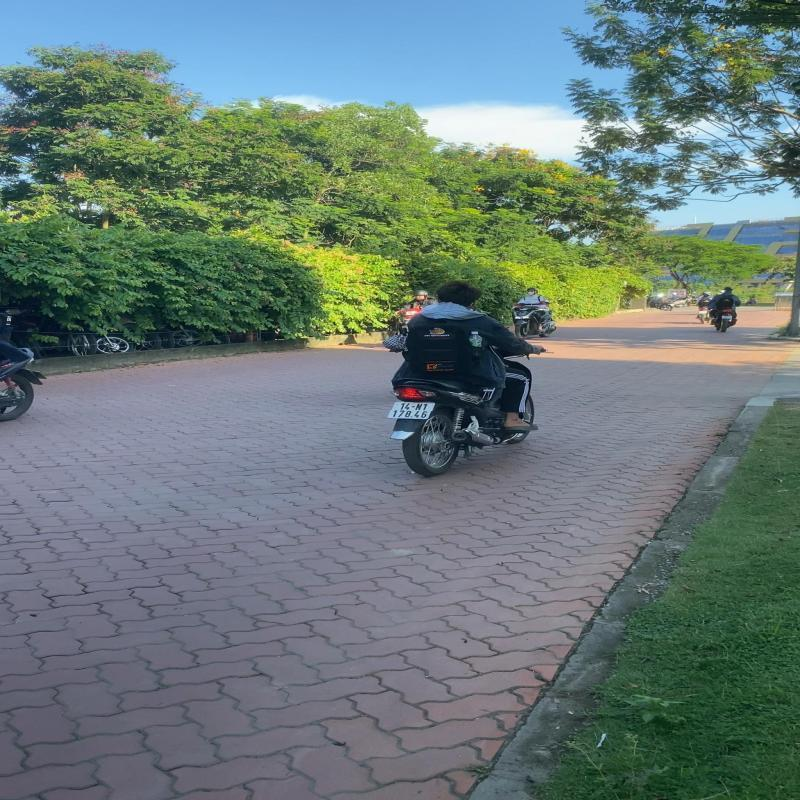licenseplate: (386, 401, 435, 419)
motorcyclist: (386, 280, 548, 478)
nohelmet: (435, 280, 484, 310)
